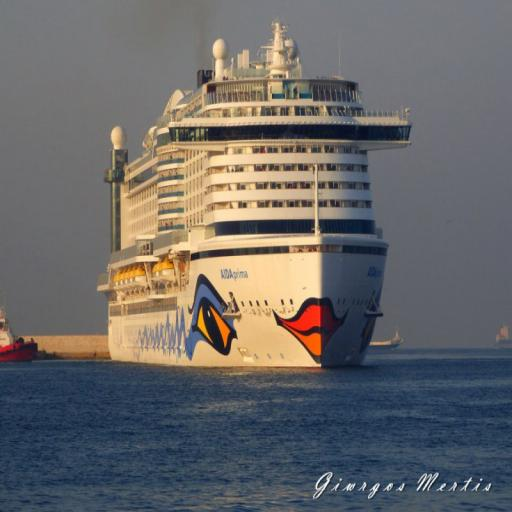cruises: (95, 21, 414, 373)
